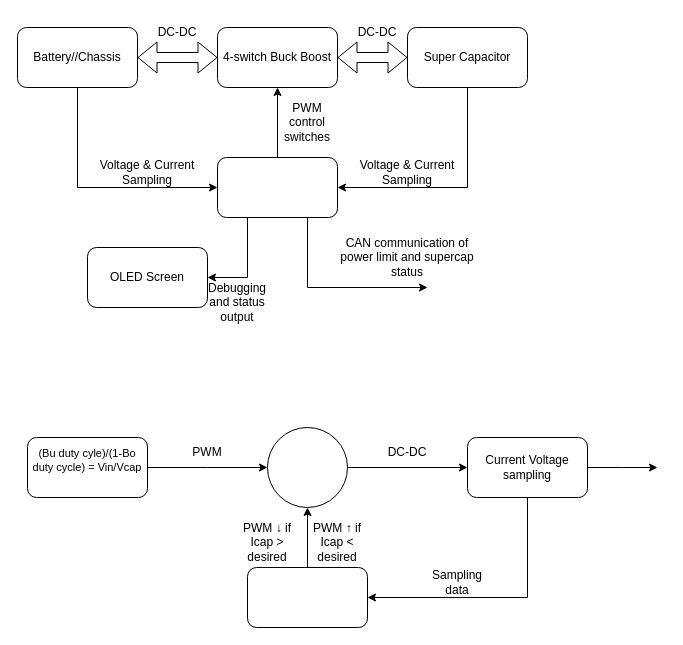
The diagram is 683 pixels wide and 645 high, and some of its shapes have lost their labels. The shapes that lost their labels are listed below. From the top down, each one's box as (x1, y1, x2, y2) in pixels, then its label:
(216, 156, 338, 218): STM32
(266, 426, 348, 508): 4-switch Buck-Boost
(246, 566, 368, 628): Desired Current = (Plimit/Vin) - Iout
